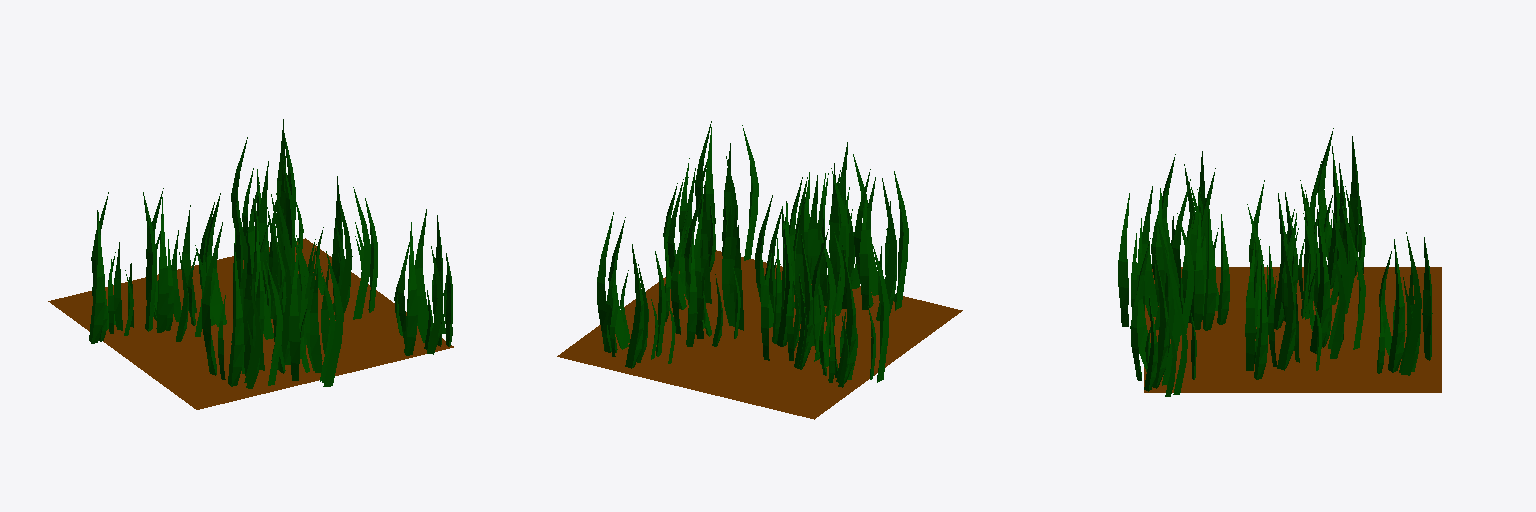
The model's file is LowPolyGrass(Final).obj.
The picture shows the model from 3 angles: view 1: azimuth 30°, elevation 25°; view 2: azimuth 150°, elevation 25°; view 3: azimuth 270°, elevation 25°; orthographic projection.
Parts seen in each view (by area): view 1: Plane|Cone|Dupli|31_Cone; view 2: Plane|Cone|Dupli|31_Cone; view 3: Plane|Cone|Dupli|31_Cone.
Boxes of the visible parts, x1,y1,x2,y2 form: Plane|Cone|Dupli|31_Cone: [48, 119, 453, 409]; Plane|Cone|Dupli|31_Cone: [557, 121, 962, 419]; Plane|Cone|Dupli|31_Cone: [1118, 128, 1441, 396].
Size of the model in its own units: 1.63 by 0.8111 by 1.62.